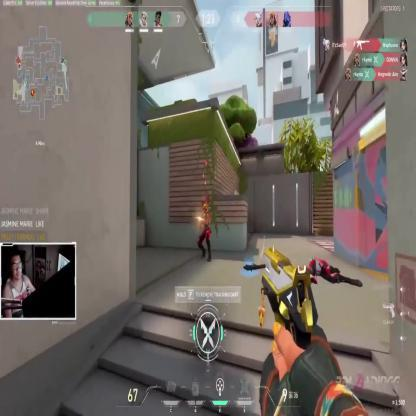enemy: (198, 202, 212, 266)
enemy_head: (202, 204, 207, 214)
